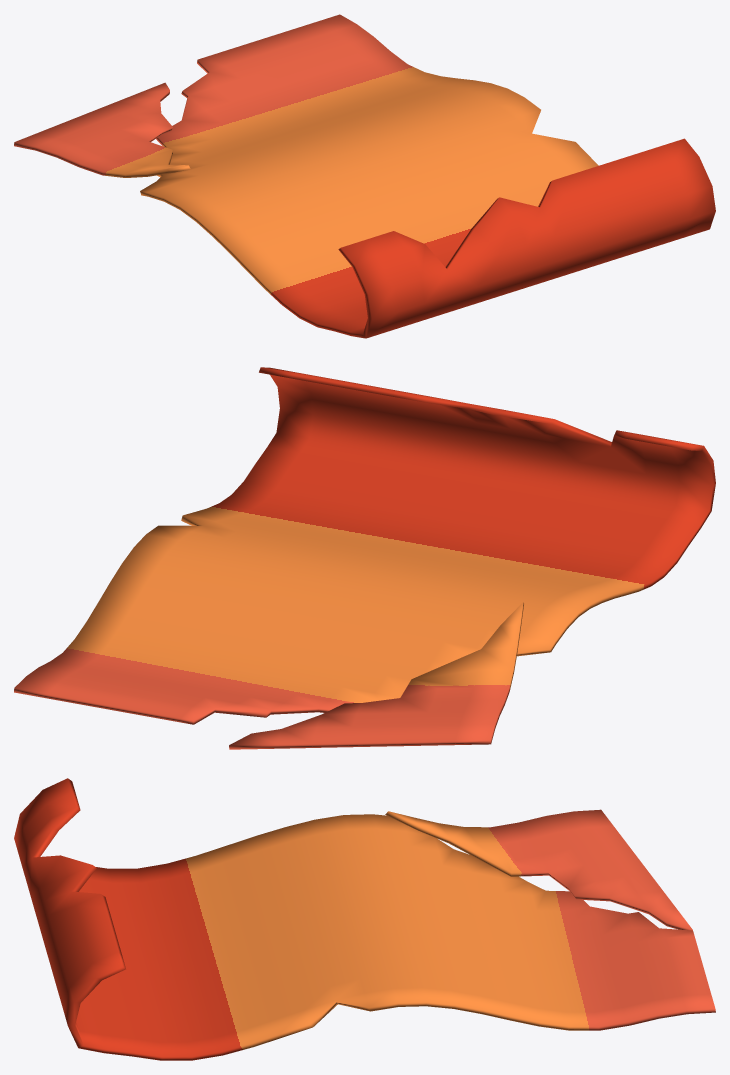
Rendered from aficheCortado.fbx.
3 renders of one model, top to bottom at view 1: azimuth 30°, elevation 25°; view 2: azimuth 150°, elevation 25°; view 3: azimuth 270°, elevation 25°, orthographic. The views are drawn at different scales.
Visible parts, largest first — view 1: aficheCortado; view 2: aficheCortado; view 3: aficheCortado.
Boxes of the visible parts, bbox=[...] form: aficheCortado: bbox=[14, 14, 715, 338]; aficheCortado: bbox=[14, 367, 715, 749]; aficheCortado: bbox=[14, 778, 715, 1060].
Size of the model in its own units: 118 by 23.69 by 154.
